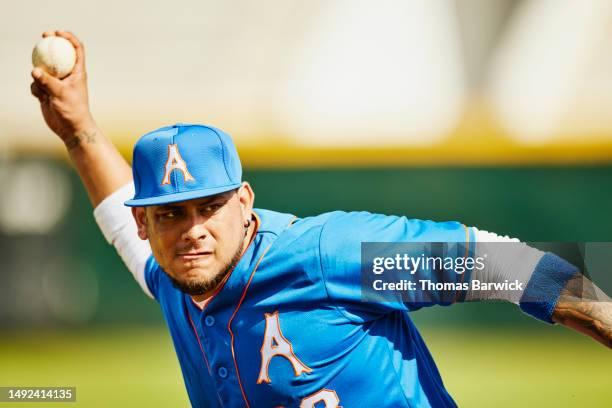baseball: (29, 34, 81, 81)
